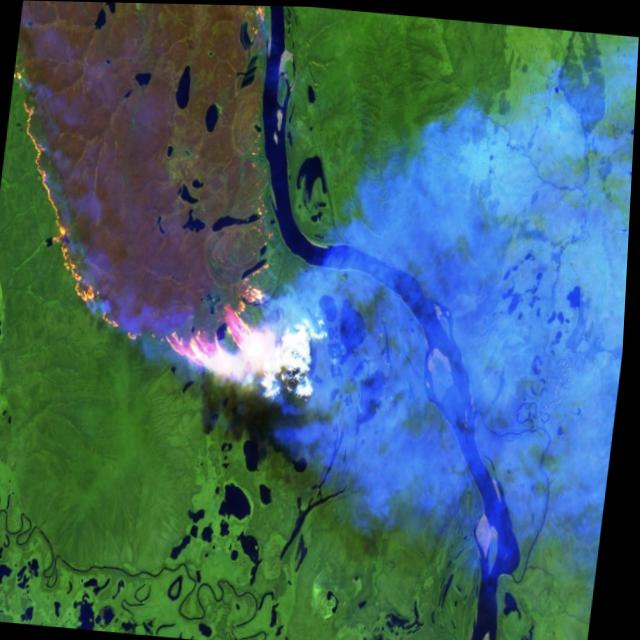fire: (0, 0, 369, 404)
